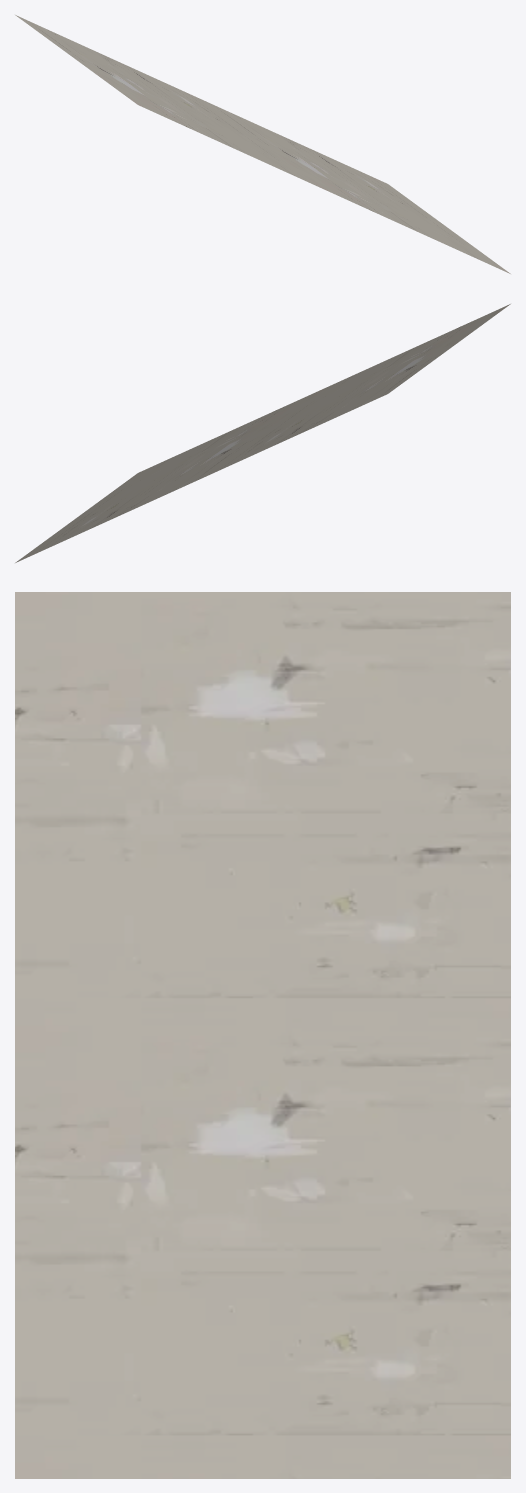
The picture shows the model from 3 angles, top to bottom: view 1: azimuth 30°, elevation 25°; view 2: azimuth 150°, elevation 25°; view 3: azimuth 270°, elevation 25°; orthographic projection. The views are drawn at different scales.
Parts seen in each view (by area): view 1: body0_model0_lod0_mesh0; view 2: body0_model0_lod0_mesh0; view 3: body0_model0_lod0_mesh0.
Part boxes in pixels (box(x1,y1,x2,y2)): body0_model0_lod0_mesh0: box(15, 15, 510, 273); body0_model0_lod0_mesh0: box(15, 304, 510, 562); body0_model0_lod0_mesh0: box(15, 592, 510, 1478).
Size of the model in its own units: 216 by 144 by 124.
Materials: 1 (1 with a texture image).
